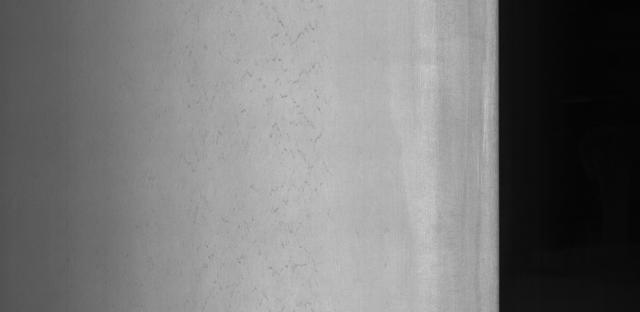silk_spot: (180, 3, 342, 299)
